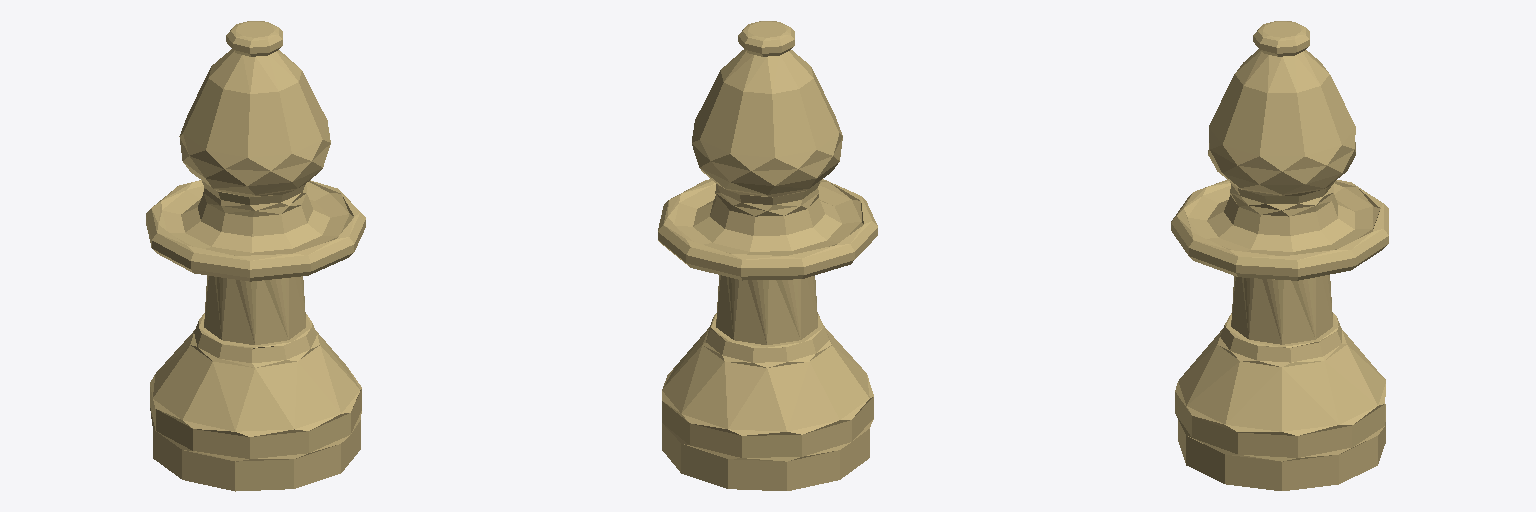
The robot description file, URDF, robot "bishop":
<?xml version="1.0" ?>
<robot name="bishop">
    
  <link name="bishop__link_0">
    <inertial>
      <mass value="0.002"/>
      <origin rpy="0  0  0" xyz="0  0  0"/>
      <inertia ixx="0.145833" ixy="0" ixz="0" iyy="0.145833" iyz="0" izz="0.125"/>
    </inertial>
    
    <collision name="bishop__collision">
      <origin rpy="1.570795  0  0" xyz="0  0  0"/>
      <geometry>
        <mesh filename="package://chessRobot/models/pieces/bishop/whiteBishop.dae" scale="0.01 0.01 0.01"/>
      </geometry>
    <mu1 value="1.0"/>
    <mu2 value="1.0"/>
    <kp  value="10000000.0" />
    <kd  value="1.0" />
    <minDepth>0.002</minDepth>
    <maxVel>0</maxVel>  
    <dynamics damping="0.7" friction="1000" />
    </collision>
    
    <visual name="bishop__visual">
      <origin rpy="1.570795  0  0" xyz="0  0  0"/>
      <geometry>
        <mesh filename="package://chessRobot/models/pieces/bishop/whiteBishop.dae" scale="0.01 0.01 0.01"/>
      </geometry>
    </visual>
  </link>
</robot> 

--- Render facts (derived) ---
3 views of the same robot in one strip: view 1: azimuth 30°, elevation 25°; view 2: azimuth 150°, elevation 25°; view 3: azimuth 270°, elevation 25° (orthographic).
Robot: bishop — 1 links, 0 joints (none); root link bishop__link_0; default pose: all joints at 0.
Links seen in each view (by area): view 1: bishop__link_0; view 2: bishop__link_0; view 3: bishop__link_0.
Boxes of the visible links, box(x1,y1,x2,y2) form: bishop__link_0: box(146, 21, 365, 491); bishop__link_0: box(658, 21, 877, 490); bishop__link_0: box(1171, 21, 1388, 490).
Size in the robot's own frame: 0.0335 by 0.0332 by 0.07 metres.
Meshes: 1 distinct files referenced, 1 mesh visuals loaded (1 Collada DAE).
